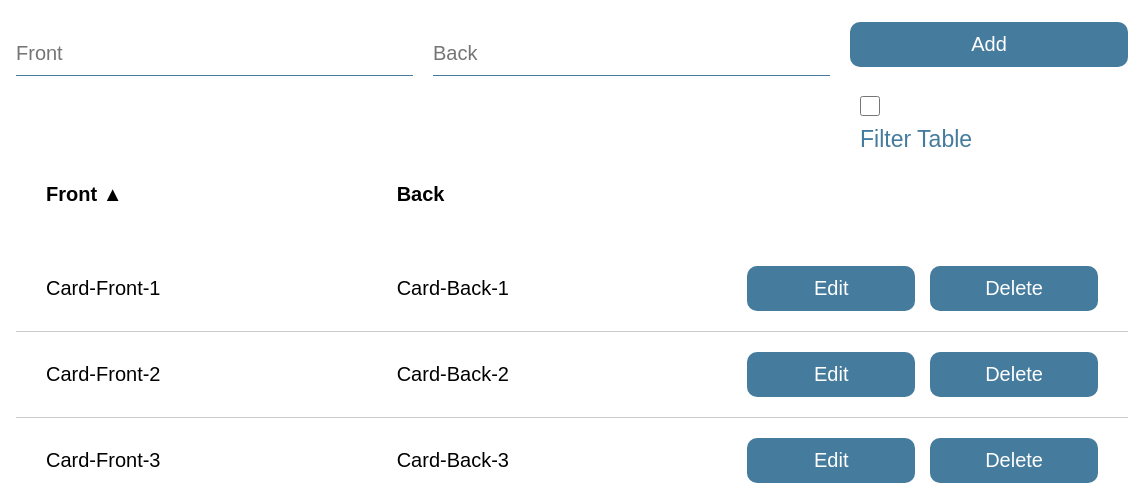
it: ManageCardsPage Component › handles sorting when SortHeader is clicked
The image size is (1145, 500).
What coordinates should you click on to do the following:
click the text "Front ▲"
I would click on:
 (84, 194)
Its box is x1=46 y1=183 x2=122 y2=205.
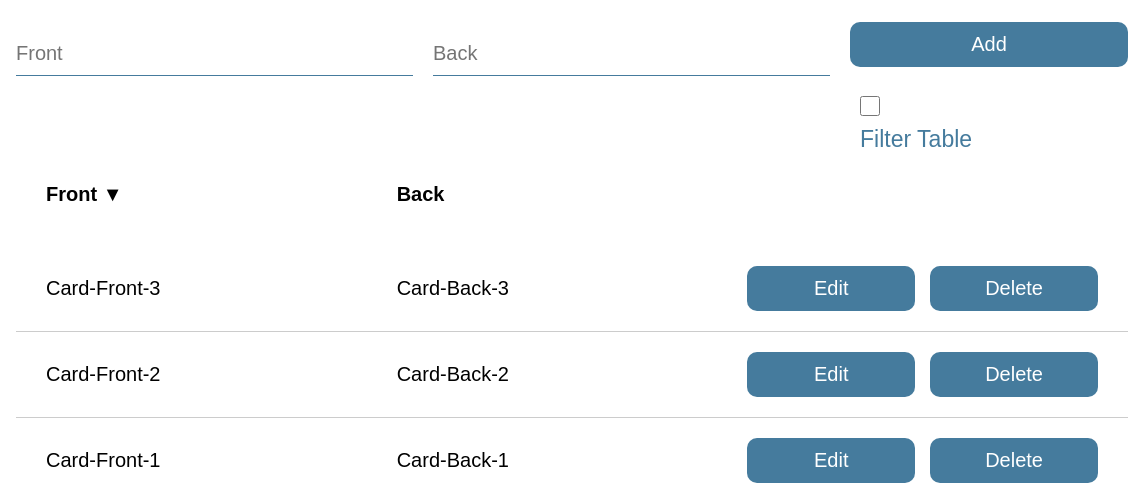
Expected: the text "Front ▼" is shown, x1=46 y1=183 x2=122 y2=205
